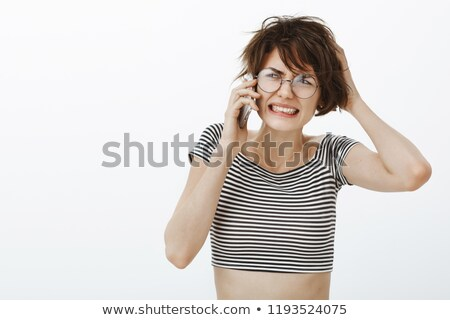phone: (231, 79, 259, 132)
talk: (221, 64, 319, 144)
